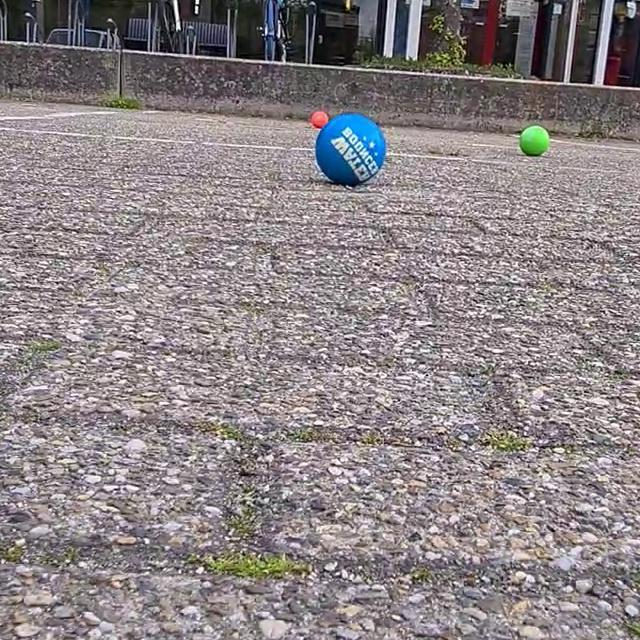ball: (518, 123, 550, 162), (306, 107, 332, 129)
